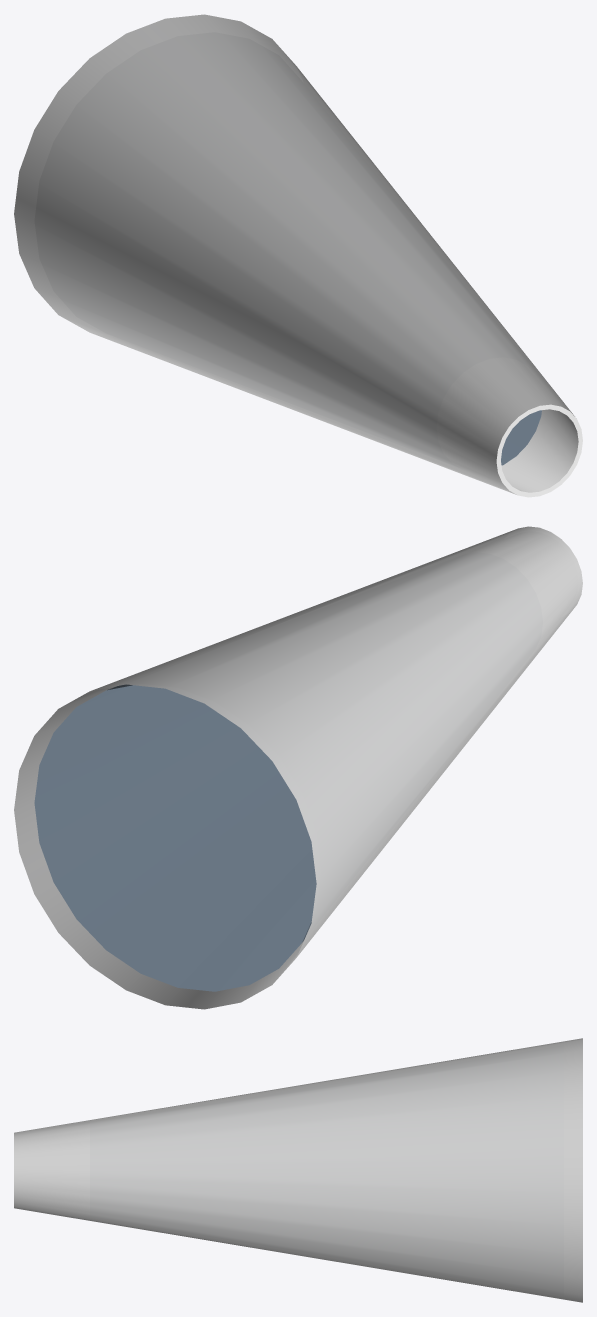
Rendered from model_scale.obj.
The picture shows the model from 3 angles, top to bottom: view 1: azimuth 30°, elevation 25°; view 2: azimuth 150°, elevation 25°; view 3: azimuth 270°, elevation 25°; orthographic projection. The views are drawn at different scales.
Parts seen in each view (by area): view 1: mesh1_mesh1-geometry, mesh2_mesh2-geometry; view 2: mesh1_mesh1-geometry, mesh2_mesh2-geometry; view 3: mesh1_mesh1-geometry.
Boxes of the visible parts, bbox=[...] form: mesh1_mesh1-geometry: bbox=[14, 14, 582, 497]; mesh2_mesh2-geometry: bbox=[501, 410, 541, 465]; mesh1_mesh1-geometry: bbox=[14, 526, 582, 1009]; mesh2_mesh2-geometry: bbox=[34, 684, 316, 991]; mesh1_mesh1-geometry: bbox=[14, 1038, 582, 1302].
Bounding box in the file's own units: 0.0677 × 0.0677 × 0.145.
